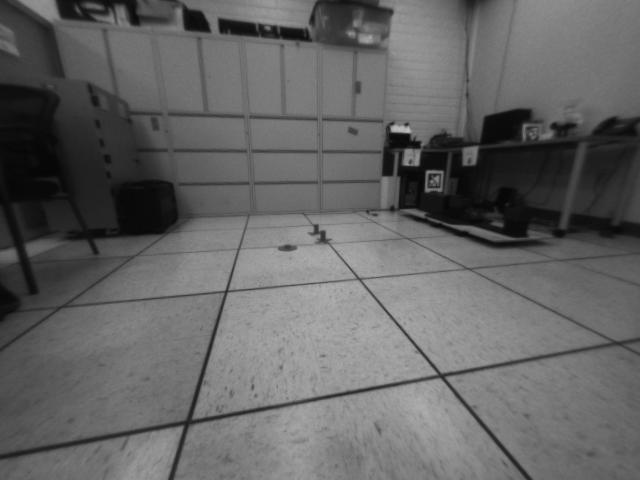X: (316, 231, 330, 243), (310, 224, 321, 234)
